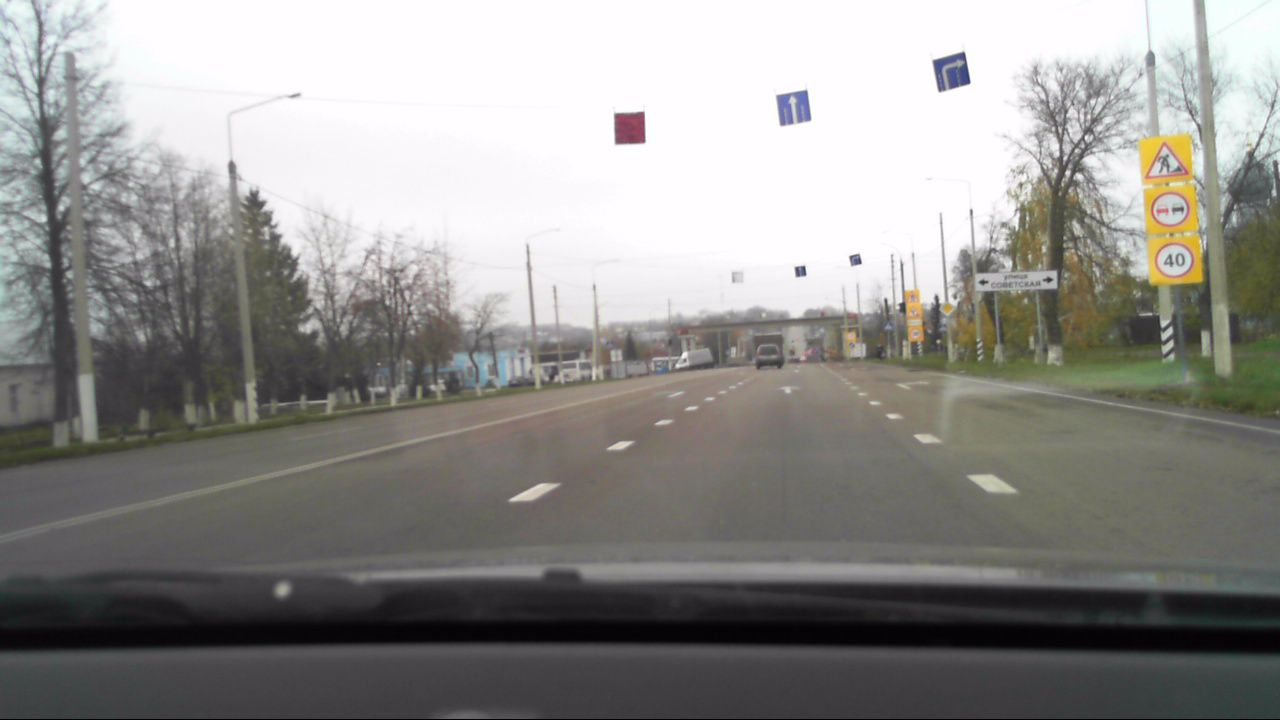speed_warning_40: (1151, 238, 1204, 289)
